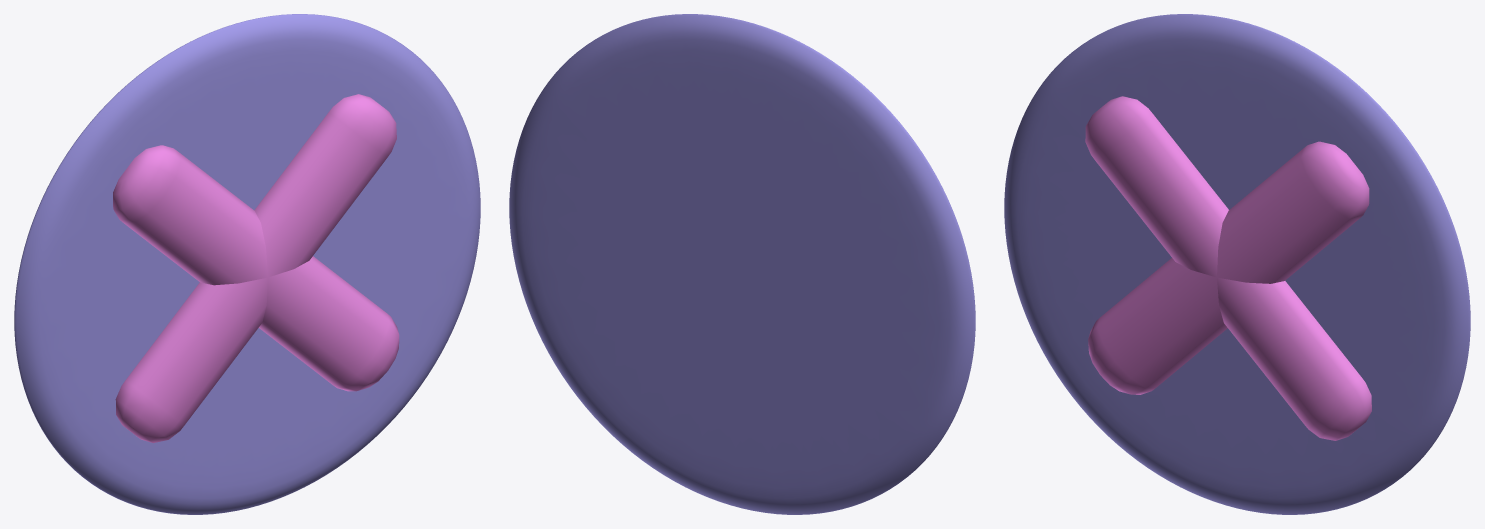
3 views of the same model, side by side, from view 1: azimuth 30°, elevation 25°; view 2: azimuth 150°, elevation 25°; view 3: azimuth 330°, elevation 25° (orthographic).
Parts seen in each view (by area): view 1: Circle.008, NurbsPath.010; view 2: Circle.008; view 3: Circle.008, NurbsPath.010.
Boxes of the visible parts, left/top/right/bottom form: Circle.008: left=14, top=14, right=480, bottom=514; NurbsPath.010: left=113, top=94, right=399, bottom=443; Circle.008: left=509, top=14, right=975, bottom=514; Circle.008: left=1004, top=14, right=1470, bottom=514; NurbsPath.010: left=1085, top=96, right=1371, bottom=440.
Size of the model in its own units: 198 by 198 by 20.14.
